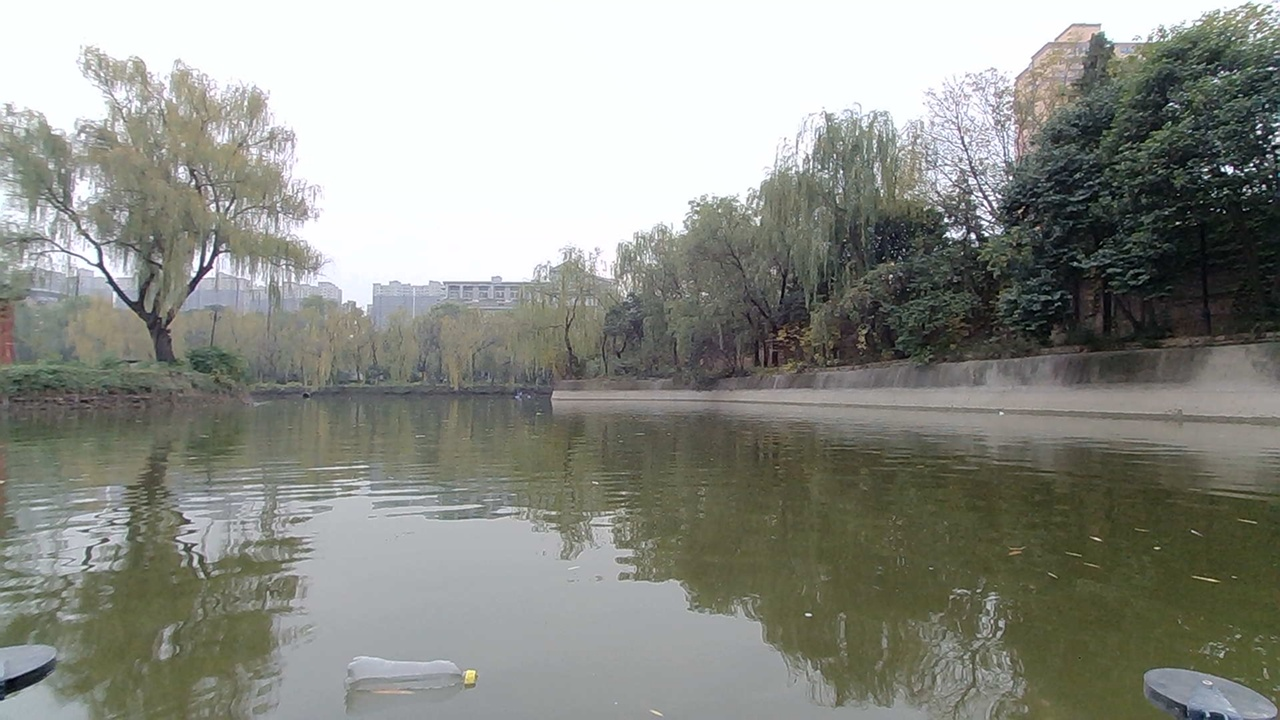bottle: (331, 649, 498, 716)
